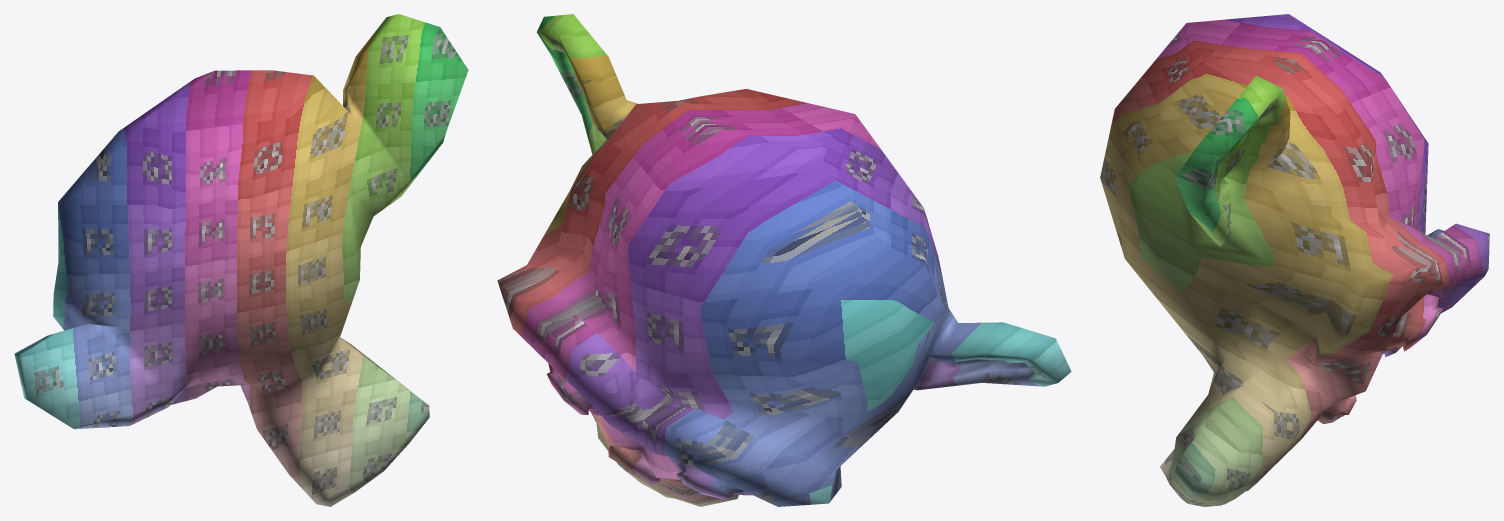
Rendered from monkey_test_gun.glb.
3 views of the same model, side by side, from view 1: azimuth 30°, elevation 25°; view 2: azimuth 150°, elevation 25°; view 3: azimuth 270°, elevation 25° (orthographic). The views are drawn at different scales.
Parts seen in each view (by area): view 1: Suzanne; view 2: Suzanne; view 3: Suzanne.
Part boxes in pixels (bbox=[...]): Suzanne: bbox=[14, 14, 468, 506]; Suzanne: bbox=[497, 14, 1071, 506]; Suzanne: bbox=[1100, 14, 1489, 506].
Size of the model in its own units: 0.246 by 0.2285 by 0.1706.
1 material, 1 textured.
